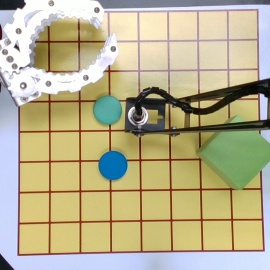blue: (98, 151, 128, 180)
green: (93, 95, 122, 123)
